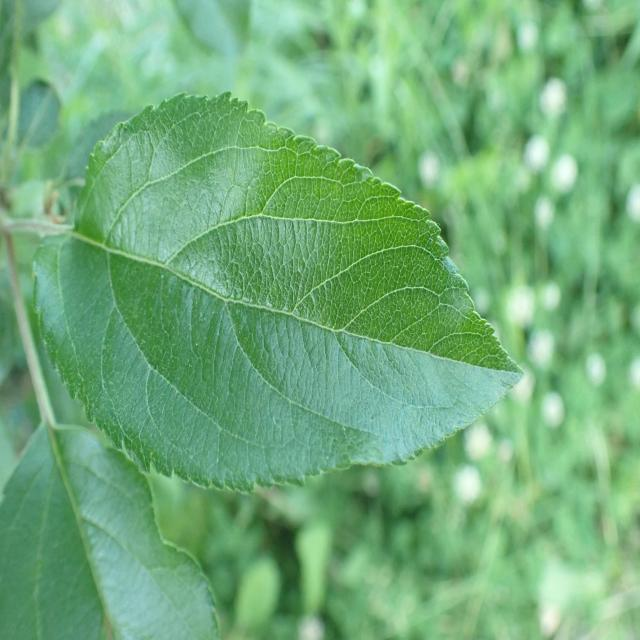healthy: (33, 90, 526, 495), (0, 419, 221, 639)
